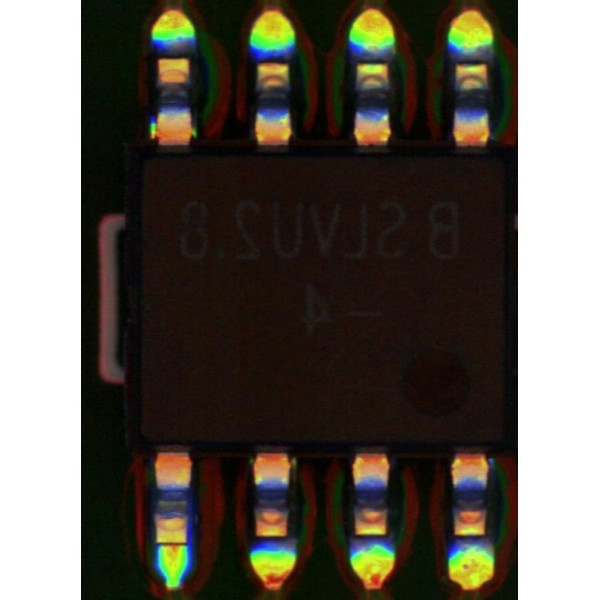Bad_podu: (159, 536, 187, 552)
